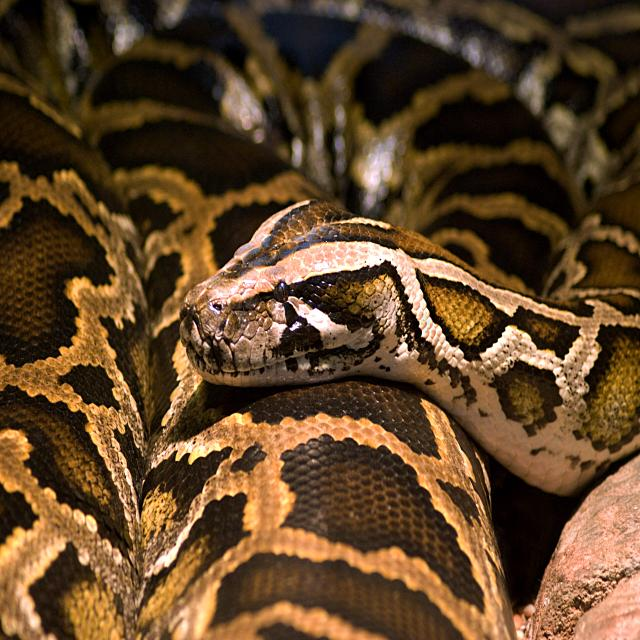Python bivittatus: (0, 2, 638, 639)
snake: (0, 2, 638, 639)
